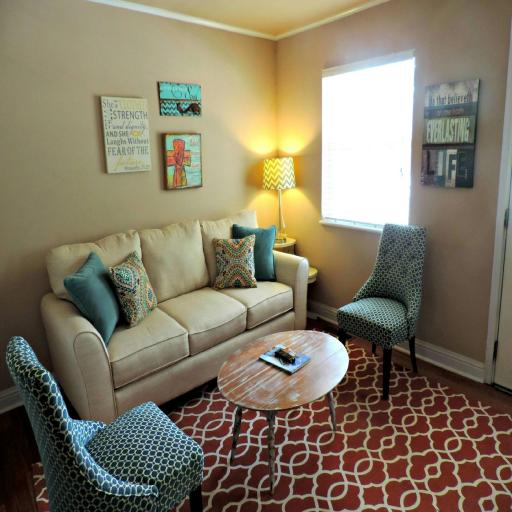chair: (7, 335, 205, 511), (336, 224, 426, 400)
desk: (217, 330, 349, 492)
sofa: (39, 210, 308, 424)
wall: (0, 1, 277, 415), (276, 1, 511, 382)
